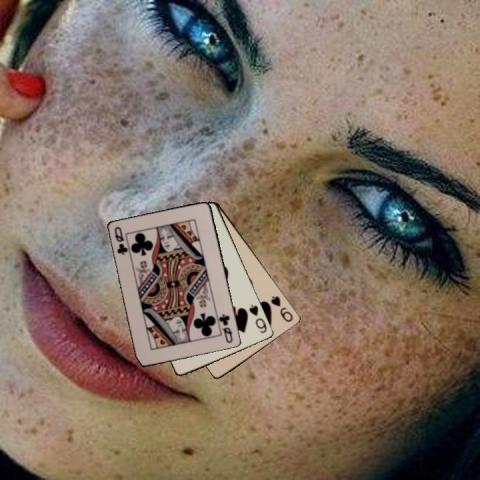6s: (246, 302, 269, 335)
9s: (268, 293, 295, 323)
Qc: (112, 223, 130, 256), (217, 311, 234, 345)
